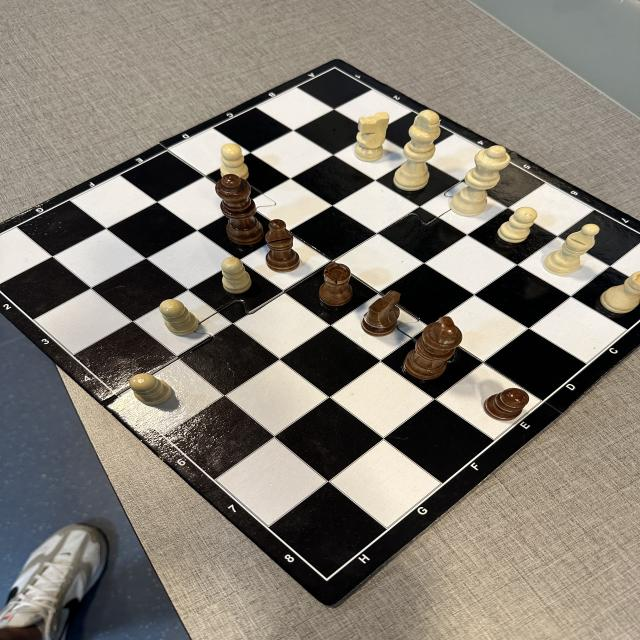Black-Bishop: (264, 219, 301, 272)
Black-King: (402, 316, 463, 380)
Black-Knight: (360, 290, 401, 337)
Black-Pawn: (482, 388, 530, 422)
Black-Queen: (214, 174, 265, 245)
Black-Rook: (318, 263, 354, 307)
White-Bishop: (542, 223, 600, 276)
White-King: (392, 110, 442, 192)
White-Knight: (354, 112, 390, 162)
White-Pawn: (497, 206, 538, 244), (159, 299, 199, 335), (129, 374, 172, 406), (220, 257, 252, 294), (220, 143, 250, 174)
White-Queen: (449, 145, 511, 217)
White-Rook: (599, 270, 640, 314)
